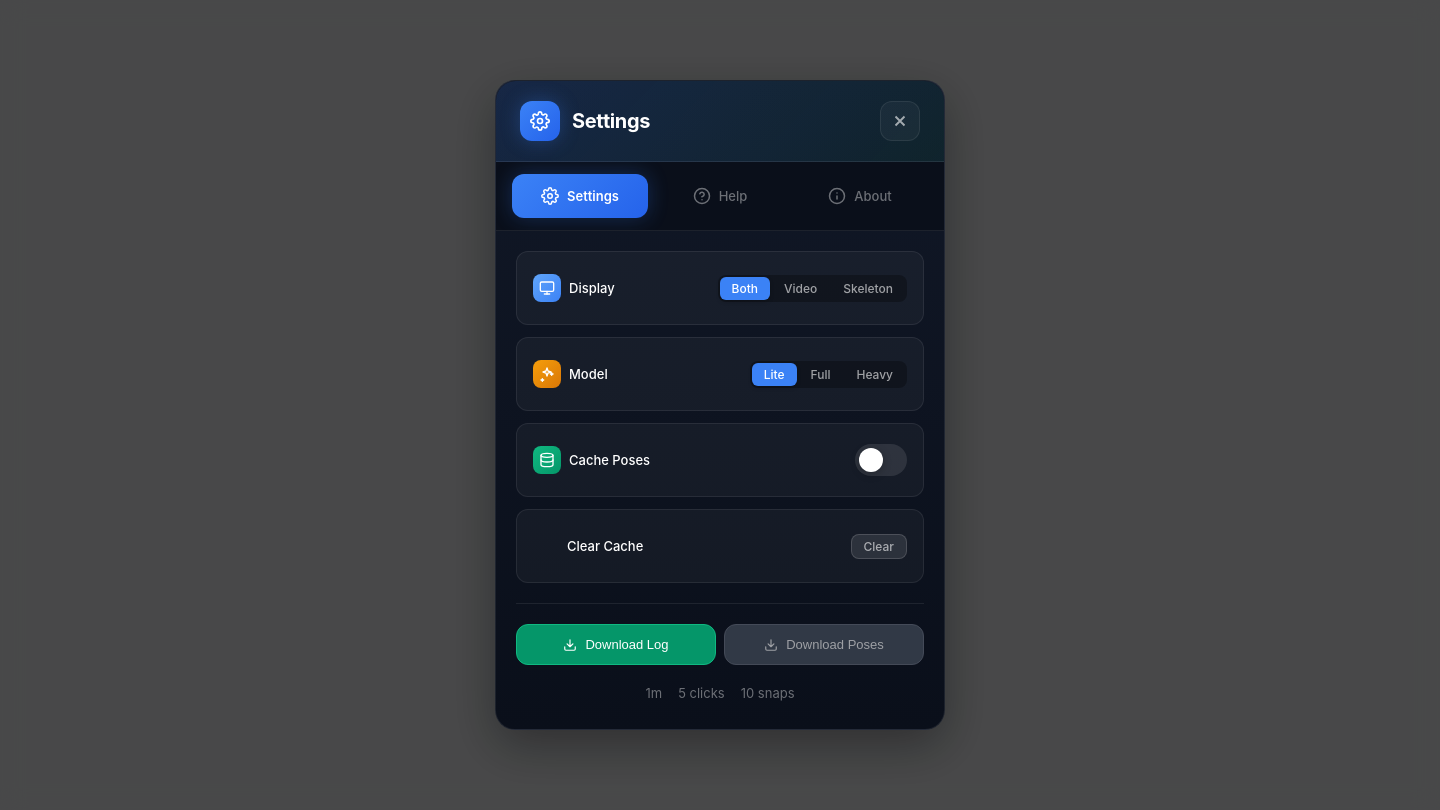
Test: SettingsModal › About Tab › displays version information
Click the button "About": (860, 196) [792,174,928,218]
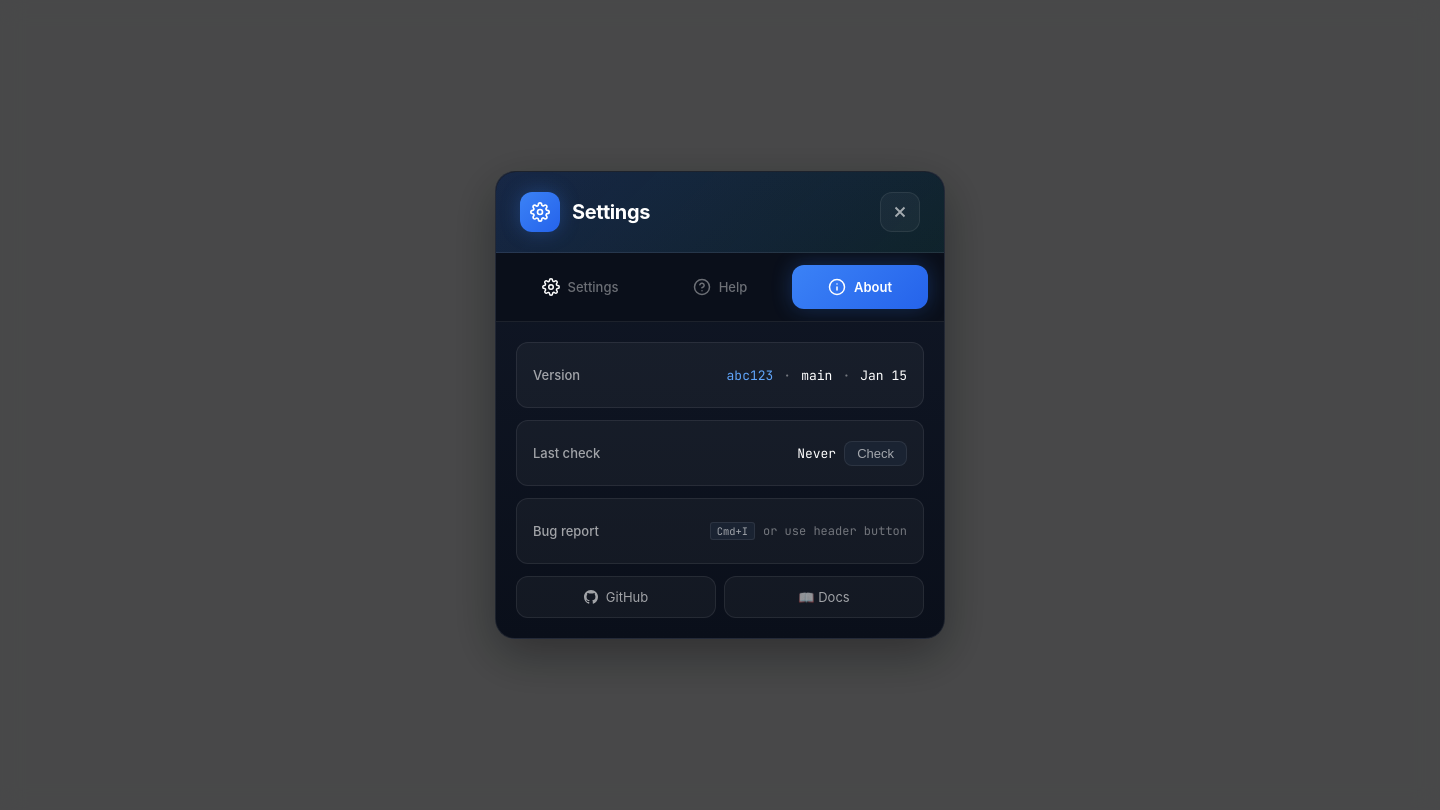
Expected: the link "abc123" is shown, [726,366,773,384]
Expected: the text "abc123 · main · Jan 15" is shown, [726,366,907,384]
